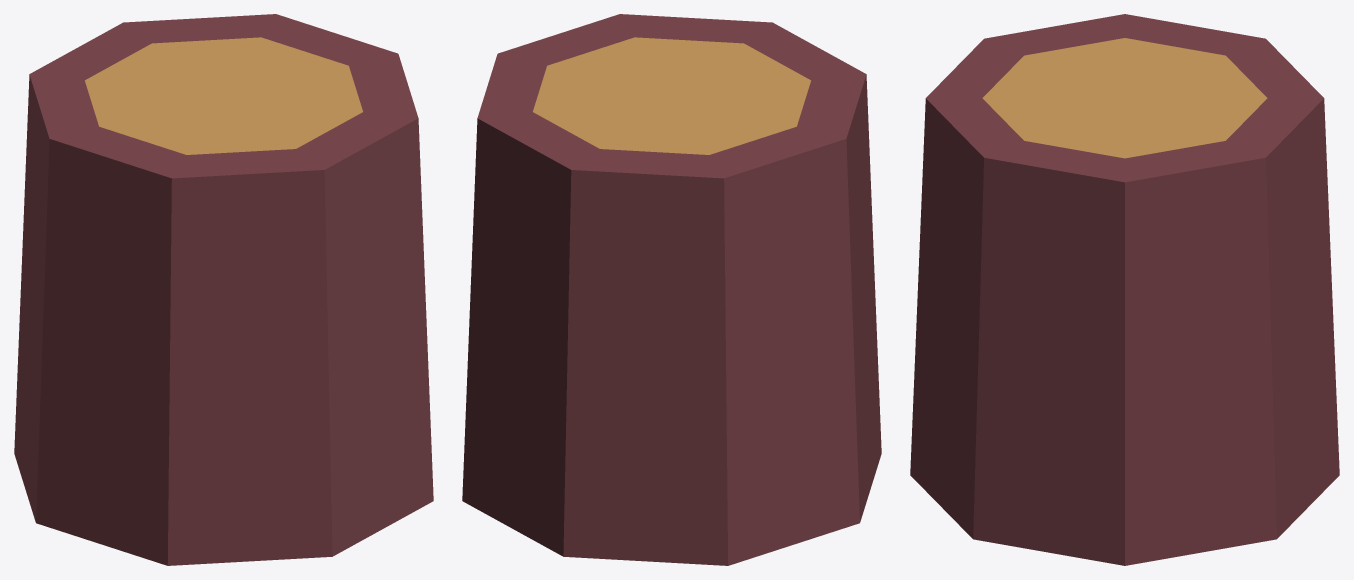
The model's file is Odun.fbx.
The picture shows the model from 3 angles, left to right: view 1: azimuth 30°, elevation 25°; view 2: azimuth 150°, elevation 25°; view 3: azimuth 270°, elevation 25°; orthographic projection.
Parts seen in each view (by area): view 1: Tree_part; view 2: Tree_part; view 3: Tree_part.
Boxes of the visible parts, left/top/right/bottom form: Tree_part: left=14, top=14, right=433, bottom=565; Tree_part: left=462, top=14, right=881, bottom=565; Tree_part: left=910, top=14, right=1339, bottom=565.
Size of the model in its own units: 0.3994 by 0.3868 by 0.3994.
1 material, 1 textured.
